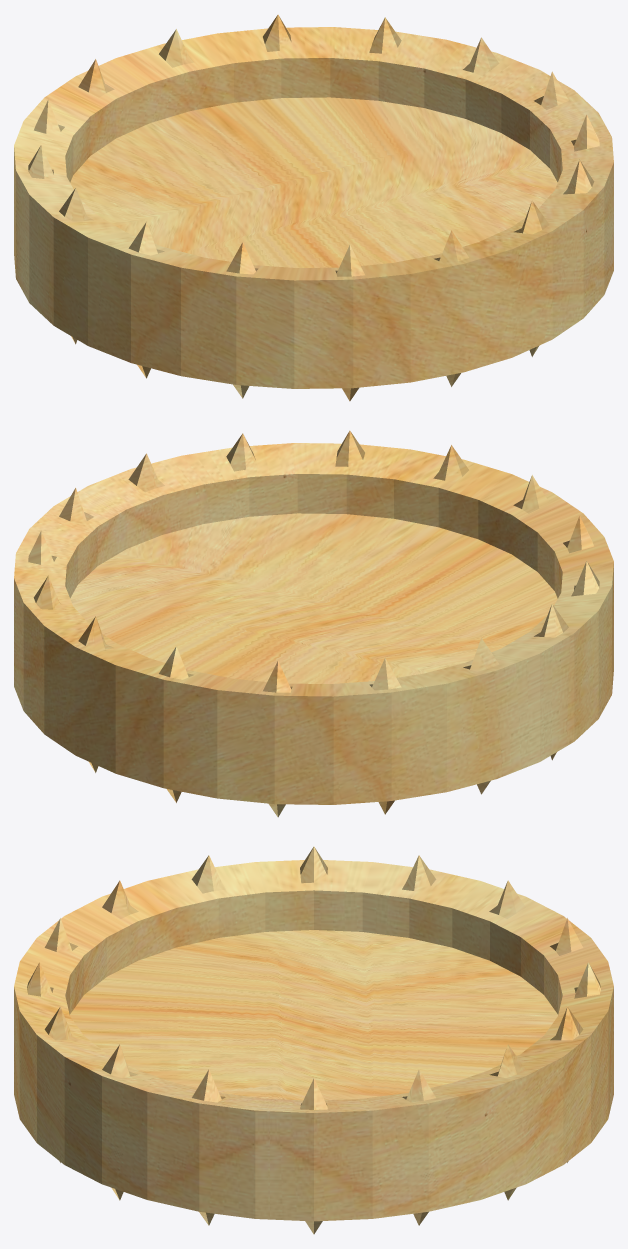
Rendered from checker.glb.
3 views of the same model, one above another, from view 1: azimuth 30°, elevation 25°; view 2: azimuth 150°, elevation 25°; view 3: azimuth 270°, elevation 25° (orthographic).
Parts seen in each view (by area): view 1: Cylinder; view 2: Cylinder; view 3: Cylinder.
Boxes of the visible parts, x1,y1,x2,y2 form: Cylinder: [14, 14, 613, 401]; Cylinder: [14, 430, 613, 817]; Cylinder: [14, 846, 613, 1234].
Size of the model in its own units: 8.06 by 2.33 by 8.06.
Materials: 1 (1 with a texture image).
